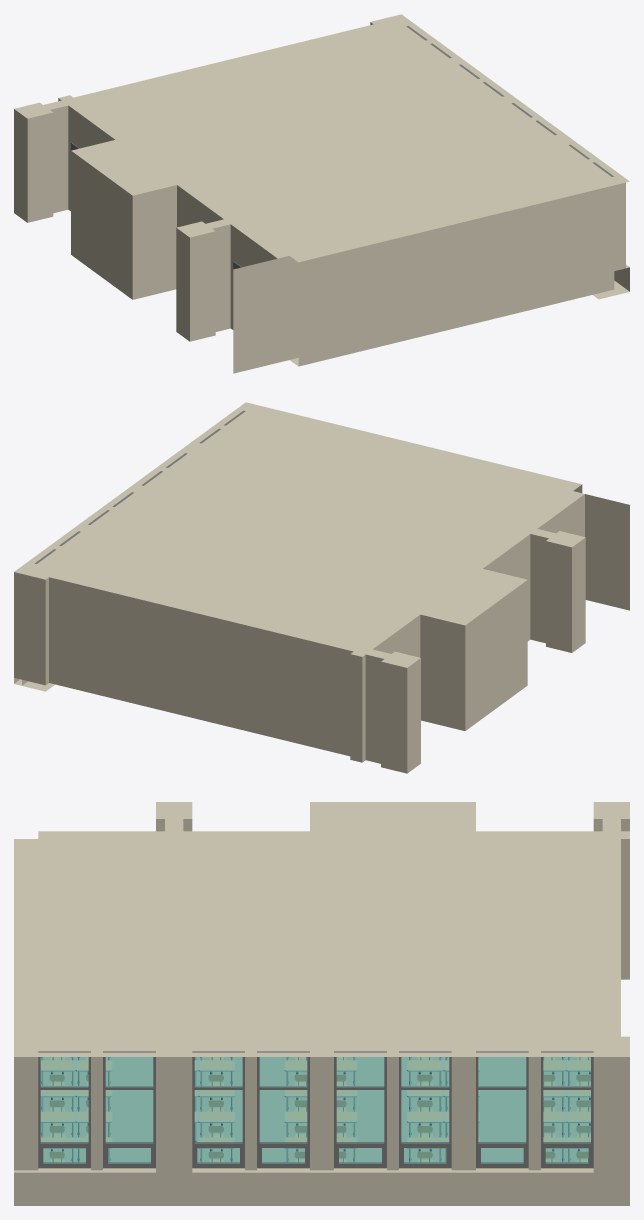
File: class.fbx
3 renders of one model, top to bottom at view 1: azimuth 30°, elevation 25°; view 2: azimuth 150°, elevation 25°; view 3: azimuth 270°, elevation 25°, orthographic. The views are drawn at different scales.
Visible parts, largest first — view 1: wall.001; view 2: wall.001; view 3: wall.001, window4.001.
Part boxes in pixels (x1,y1,x2,y2): wall.001: (14, 14, 629, 373); wall.001: (14, 402, 629, 773); wall.001: (14, 802, 629, 1205); window4.001: (38, 1051, 593, 1168).
Size of the model in its own units: 24810 by 6750 by 25333.
